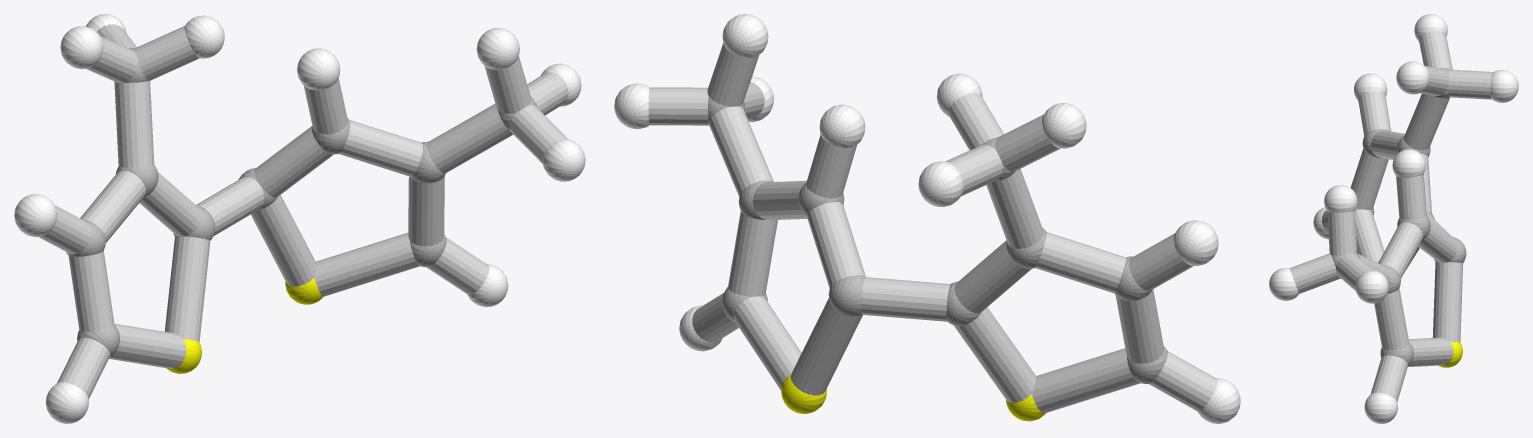
File: Methylthiophene_Phi_50_Theta_210_Methylthiophene.glb
3 renders of one model, left to right at view 1: azimuth 30°, elevation 25°; view 2: azimuth 150°, elevation 25°; view 3: azimuth 270°, elevation 25°, orthographic. The views are drawn at different scales.
Parts seen in each view (by area): view 1: grp7965, grp3621, grp1, grp7241; view 2: grp7965, grp3621, grp1, grp7241; view 3: grp7965, grp3621, grp1, grp7241.
Part boxes in pixels (box(x1,y1,x2,y2)): grp7965: box(38, 24, 568, 398); grp3621: box(14, 14, 585, 423); grp1: box(66, 48, 537, 357); grp7241: box(166, 278, 322, 373); grp7965: box(648, 43, 1217, 413); grp3621: box(614, 14, 1240, 423); grp1: box(708, 96, 1167, 383); grp7241: box(781, 374, 1045, 421); grp7965: box(1289, 31, 1493, 401); grp3621: box(1269, 14, 1518, 423); grp1: box(1331, 67, 1466, 365); grp7241: box(1438, 342, 1462, 367).
Size of the model in its own units: 9.01 by 5.27 by 4.48.
